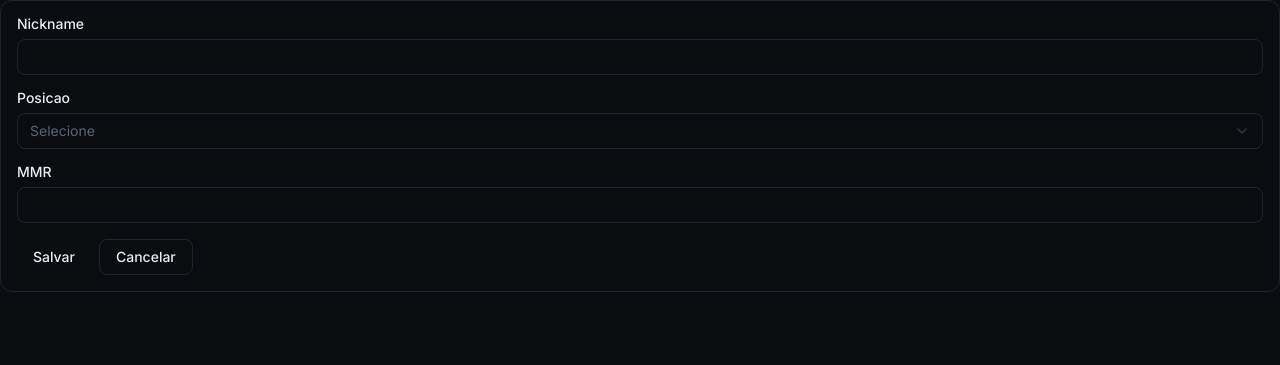
PlayerForm › shows validation errors on empty submit
The width and height of the screenshot is (1280, 365).
Click the button "Salvar".
click(54, 257)  # box [17, 239, 91, 275]
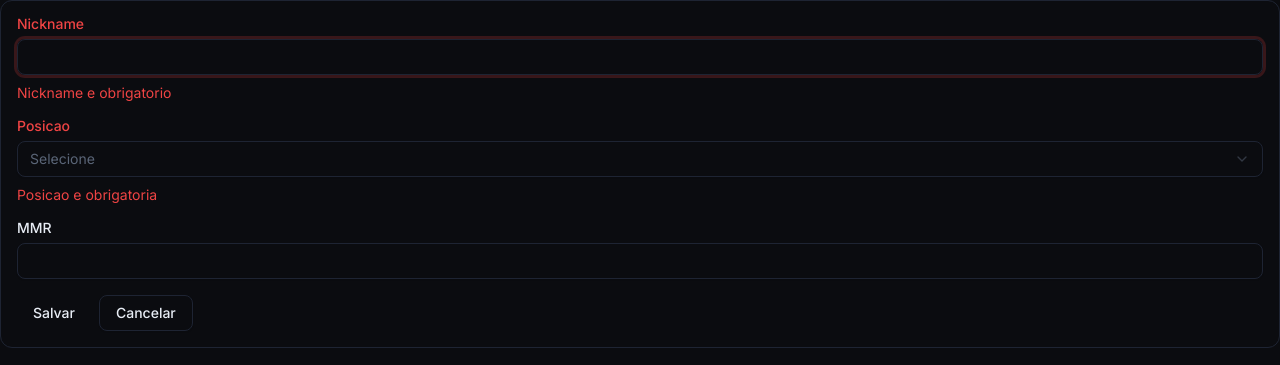
Expected: the text "Nickname e obrigatorio" is shown, [17, 84, 172, 101]
Expected: the text "Posicao e obrigatoria" is shown, [17, 186, 157, 203]
